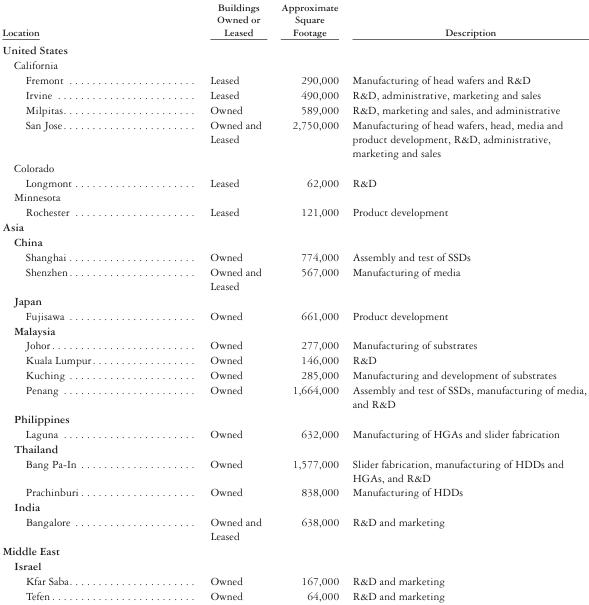table: (1, 1, 585, 601)
table column: (344, 1, 585, 601), (1, 1, 152, 601), (152, 1, 270, 601), (270, 1, 344, 601)
table column header: (1, 1, 585, 40)
table projected row header: (1, 40, 585, 57), (1, 57, 585, 72), (1, 159, 585, 174), (1, 189, 585, 204), (1, 219, 585, 234), (1, 234, 585, 249), (1, 292, 585, 307), (1, 322, 585, 337), (1, 410, 585, 425), (1, 440, 585, 455), (1, 499, 585, 514), (1, 557, 585, 572), (1, 543, 585, 557)
table row: (1, 116, 585, 159), (1, 1, 585, 40), (1, 455, 585, 484), (1, 514, 585, 543), (1, 264, 585, 292), (1, 382, 585, 410), (1, 40, 585, 57), (1, 57, 585, 72), (1, 72, 585, 87), (1, 87, 585, 102), (1, 159, 585, 174), (1, 174, 585, 189), (1, 189, 585, 204), (1, 204, 585, 219), (1, 219, 585, 234), (1, 234, 585, 249), (1, 249, 585, 264), (1, 292, 585, 307), (1, 307, 585, 322), (1, 322, 585, 337), (1, 337, 585, 352), (1, 352, 585, 367), (1, 367, 585, 382), (1, 410, 585, 425), (1, 425, 585, 440), (1, 440, 585, 455), (1, 484, 585, 499), (1, 499, 585, 514), (1, 557, 585, 572), (1, 572, 585, 587), (1, 102, 585, 116), (1, 543, 585, 557), (1, 587, 585, 601)
